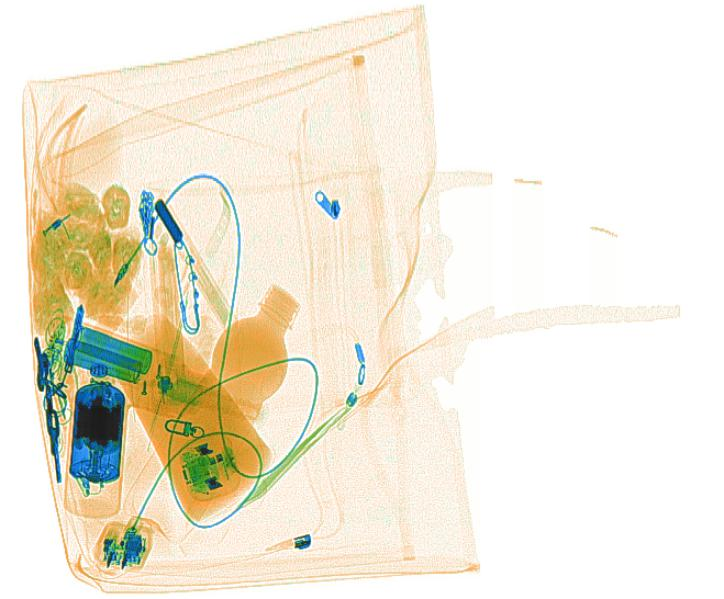battery: (61, 321, 153, 385)
